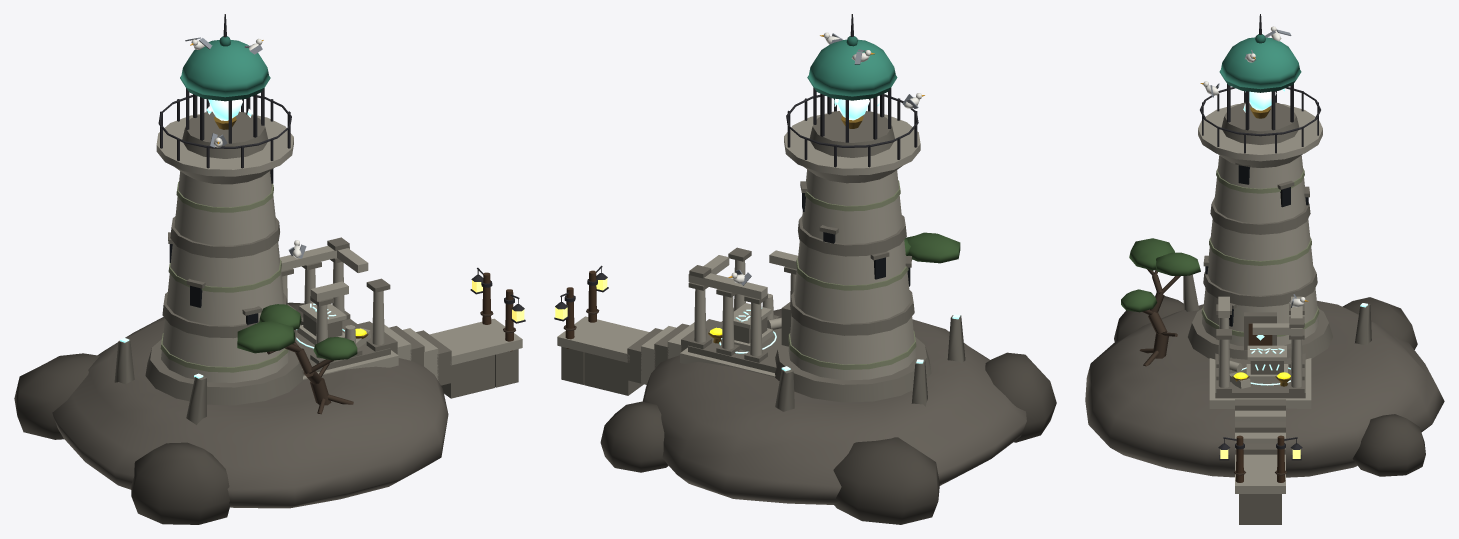
The model's file is lighthouse-shrine.glb.
3 renders of one model, left to right at view 1: azimuth 30°, elevation 25°; view 2: azimuth 150°, elevation 25°; view 3: azimuth 270°, elevation 25°, orthographic. The views are drawn at different scales.
Visible parts, largest first — view 1: Mesh_Rock, Mesh_Boulder1, Mesh_TowerShaft1, Mesh_TowerShaft2, Mesh_Boulder0, Mesh_TowerShaft0, Mesh_TowerPlinth, Mesh_DomeRoof, Mesh_GalleryDeck, Mesh_LanternBase, Mesh_JettyDeck, Mesh_TowerBand1 (+20 smaller); view 2: Mesh_Rock, Mesh_Boulder0, Mesh_TowerShaft1, Mesh_TowerShaft2, Mesh_TowerShaft0, Mesh_Boulder2, Mesh_DomeRoof, Mesh_TowerPlinth, Mesh_GalleryDeck, Mesh_Boulder1, Mesh_LanternBase, Mesh_JettyDeck (+22 smaller); view 3: Mesh_Rock, Mesh_TowerShaft1, Mesh_TowerShaft2, Mesh_Boulder2, Mesh_DomeRoof, Mesh_GalleryDeck, Mesh_LanternBase, Mesh_TowerShaft0, Mesh_TowerPlinth, Mesh_JettyDeck, Mesh_Boulder0, Mesh_PorchFloor (+25 smaller).
Boxes of the visible parts, box(x1,y1,x2,y2) form: Mesh_Rock: box(52, 315, 448, 508); Mesh_Boulder1: box(131, 442, 230, 524); Mesh_TowerShaft1: box(166, 242, 283, 325); Mesh_TowerShaft2: box(174, 171, 275, 245); Mesh_Boulder0: box(14, 353, 99, 439); Mesh_TowerShaft0: box(161, 319, 289, 382); Mesh_TowerPlinth: box(145, 339, 303, 405); Mesh_DomeRoof: box(181, 40, 269, 96); Mesh_GalleryDeck: box(156, 114, 293, 176); Mesh_LanternBase: box(182, 111, 268, 158); Mesh_JettyDeck: box(429, 318, 522, 365); Mesh_TowerBand1: box(170, 216, 279, 258); Mesh_Rock: box(642, 309, 1026, 504); Mesh_Boulder0: box(833, 437, 939, 524); Mesh_TowerShaft1: box(794, 240, 910, 323); Mesh_TowerShaft2: box(802, 169, 902, 243); Mesh_TowerShaft0: box(788, 317, 916, 380); Mesh_Boulder2: box(600, 401, 668, 472); Mesh_DomeRoof: box(808, 39, 896, 96); Mesh_TowerPlinth: box(775, 337, 931, 402); Mesh_GalleryDeck: box(784, 113, 920, 175); Mesh_Boulder1: box(985, 352, 1056, 442); Mesh_LanternBase: box(809, 111, 894, 157); Mesh_JettyDeck: box(557, 316, 649, 362); Mesh_Rock: box(1085, 300, 1444, 477); Mesh_TowerShaft1: box(1207, 219, 1313, 295); Mesh_TowerShaft2: box(1214, 155, 1305, 223); Mesh_Boulder2: box(1352, 414, 1425, 476); Mesh_DomeRoof: box(1220, 37, 1300, 88); Mesh_GalleryDeck: box(1198, 104, 1322, 161); Mesh_LanternBase: box(1221, 102, 1299, 144); Mesh_TowerShaft0: box(1202, 288, 1318, 346); Mesh_TowerPlinth: box(1188, 309, 1332, 359); Mesh_JettyDeck: box(1235, 454, 1285, 493); Mesh_Boulder0: box(1342, 297, 1417, 349); Mesh_PorchFloor: box(1215, 353, 1305, 398).
Size of the model in its own units: 22.95 by 21.8 by 18.37.
